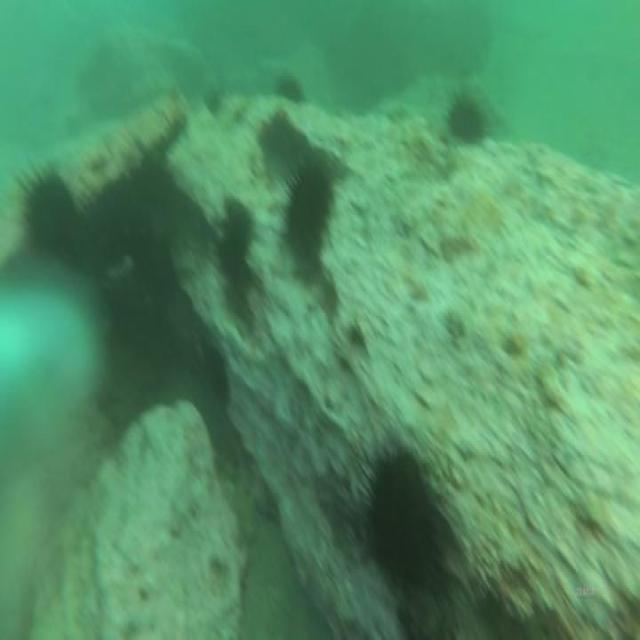echinus: (345, 423, 451, 614), (274, 150, 339, 277), (9, 157, 82, 270), (439, 87, 493, 148), (218, 191, 252, 286), (262, 106, 310, 172)
